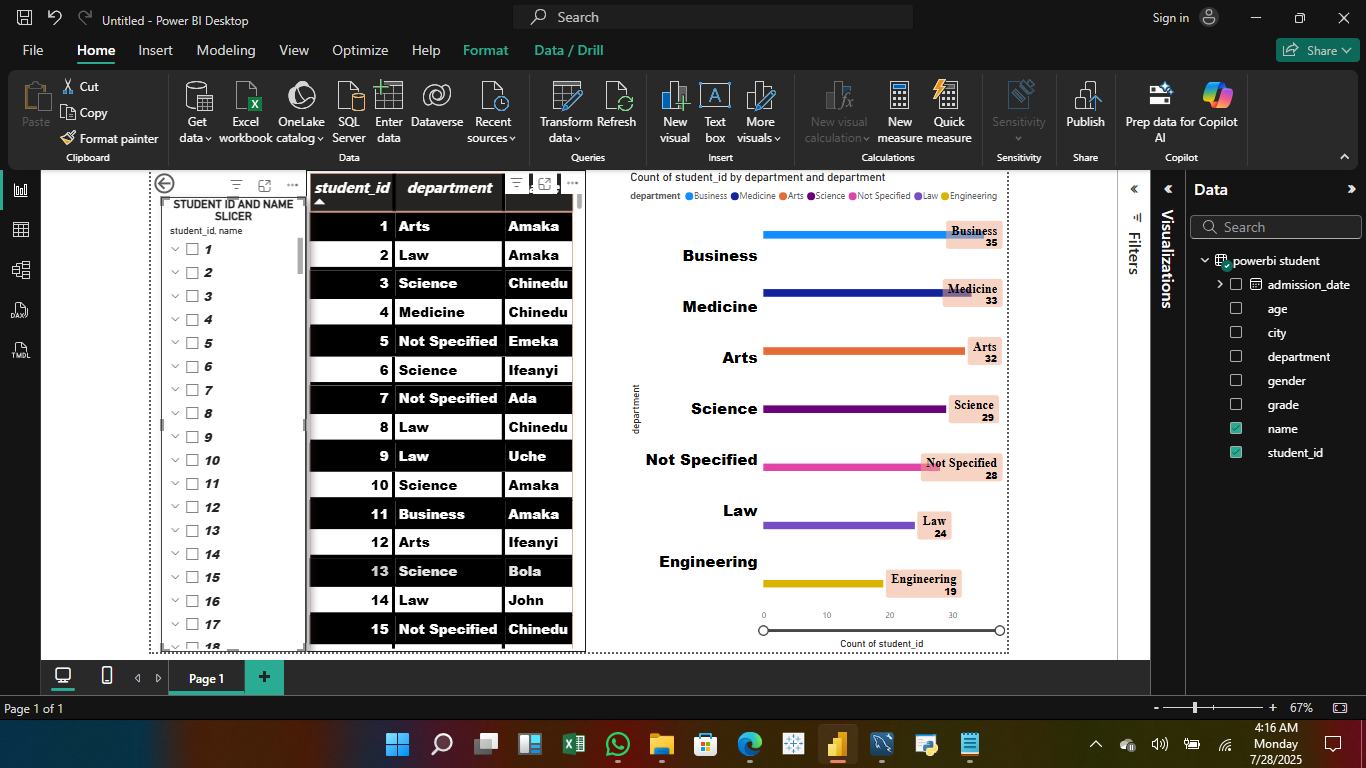

What the dashboard file says about the page in this screenshot:
{"tool":"powerbi","page":{"name":"Page 1","canvas":[1280,720],"ordinal":0},"visuals":[{"type":"tableEx","fields":{"Values":["powerbi student.student_id","powerbi student.department","powerbi student.name"]},"box":[231.5,0,418.3,720],"z":0},{"type":"actionButton","box":[0,0,100,40],"z":1},{"type":"slicer","title":"STUDENT ID AND NAME SLICER","fields":{"Values":["powerbi student.student_id","powerbi student.name"]},"box":[14.9,40.3,216.6,679.7],"z":2},{"type":"clusteredBarChart","fields":{"Category":["powerbi student.department"],"Y":["powerbi student.student_id"],"Series":["powerbi student.department"]},"box":[711,0,569.1,720],"z":3}]}

Visuals, with their boxes on the page's 1280x720 design canvas (x1, y1, x2, y2). These are canvas units, not pixel positions in the 1366x768 screenshot, which may show the page scaled, cropped or inside an application window:
tableEx - powerbi student.student_id x powerbi student.department: [x1=232, y1=0, x2=650, y2=720]
actionButton: [x1=0, y1=0, x2=100, y2=40]
"STUDENT ID AND NAME SLICER" slicer: [x1=15, y1=40, x2=232, y2=720]
clusteredBarChart - powerbi student.department x powerbi student.student_id: [x1=711, y1=0, x2=1280, y2=720]
